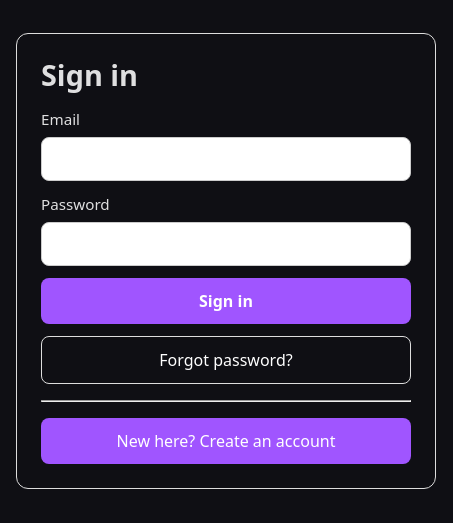
Auth (Supabase) › shows an error message if login fails
Step 1. Type "test@example.com" into the field labelled "Email" → {"x": 226, "y": 159}, box 41,137 -> 411,181
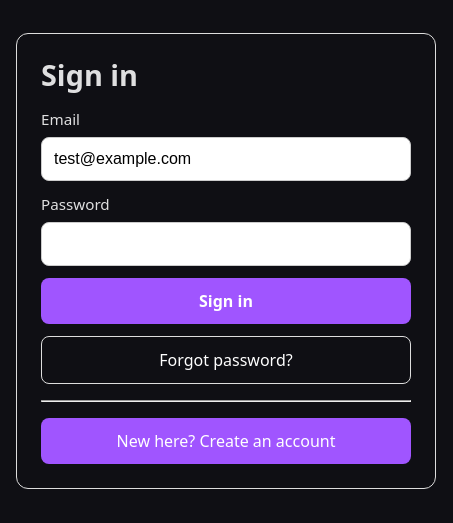
Step 2. Type "wrongpass" into the password field labelled "Password" → {"x": 226, "y": 244}, box 41,222 -> 411,266
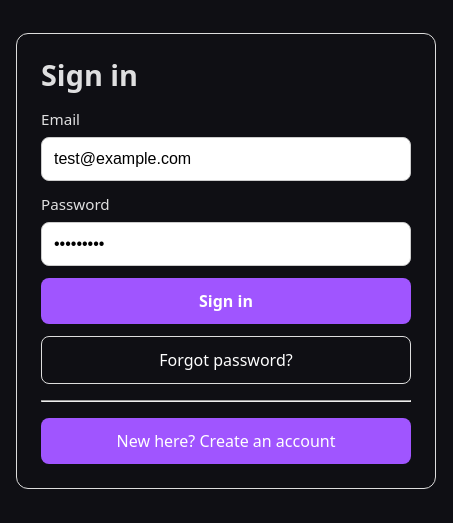
Step 3. Click the button "Sign in" → {"x": 226, "y": 301}, box 41,278 -> 411,324
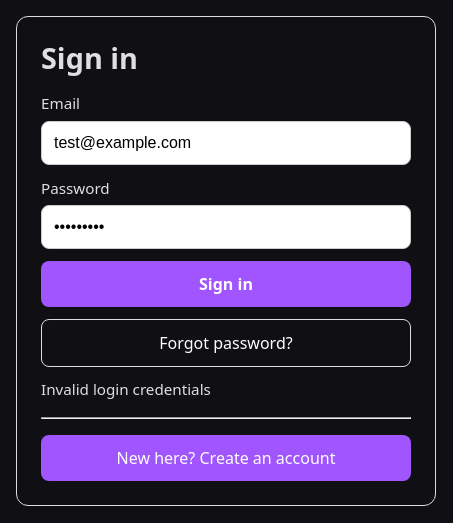
expect the text "Invalid login credentials" is shown: met, box 41,379 -> 211,399
